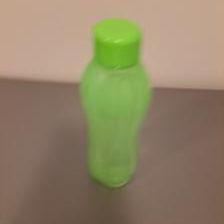bottle: (79, 17, 152, 190)
